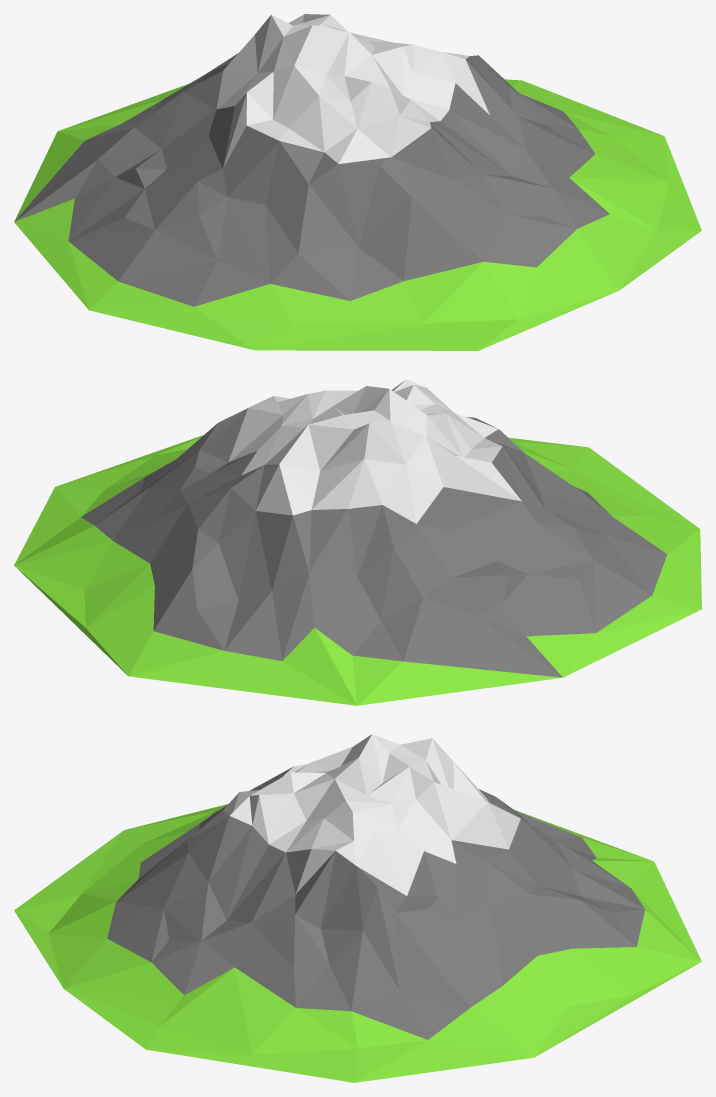
Rendered from Mountain_2.fbx.
The picture shows the model from 3 angles, top to bottom: view 1: azimuth 30°, elevation 25°; view 2: azimuth 150°, elevation 25°; view 3: azimuth 270°, elevation 25°; orthographic projection. The views are drawn at different scales.
Visible parts, largest first — view 1: Landscape.001; view 2: Landscape.001; view 3: Landscape.001.
Part boxes in pixels (x1,y1,x2,y2): Landscape.001: [14, 14, 701, 350]; Landscape.001: [14, 379, 701, 705]; Landscape.001: [14, 734, 701, 1082].
Bounding box in the file's own units: 194 × 57.27 × 193.
